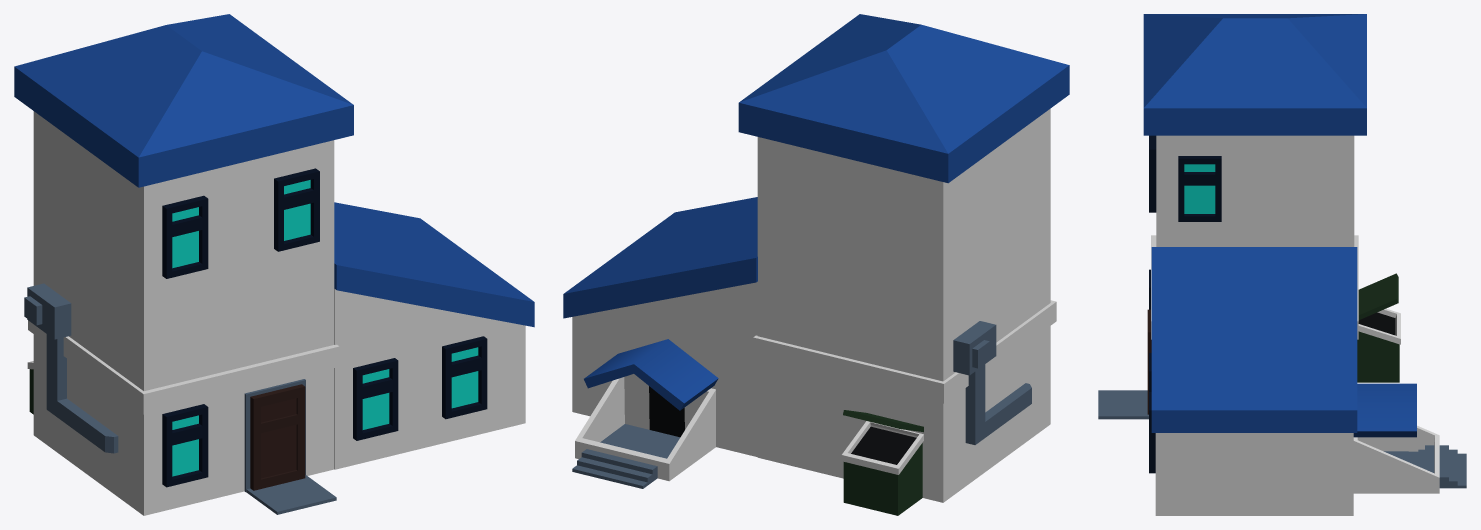
File: TownHouse_7.fbx
3 views of the same model, side by side, from view 1: azimuth 30°, elevation 25°; view 2: azimuth 150°, elevation 25°; view 3: azimuth 270°, elevation 25° (orthographic). The views are drawn at different scales.
Visible parts, largest first — view 1: TownHouse_7; view 2: TownHouse_7; view 3: TownHouse_7.
Part boxes in pixels (box(x1,y1,x2,y2)): TownHouse_7: box(14, 14, 534, 515); TownHouse_7: box(563, 14, 1069, 515); TownHouse_7: box(1098, 14, 1466, 515).
Bounding box in the file's own units: 43.51 × 41.94 × 37.6.
